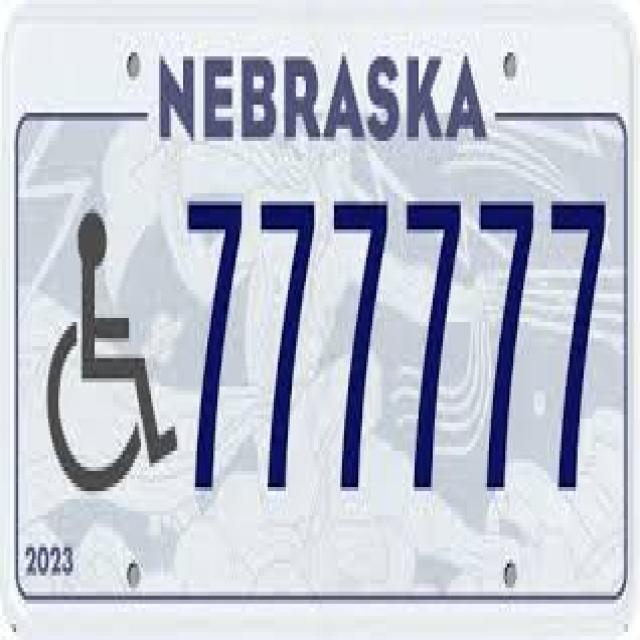symbol_of_access: (47, 212, 176, 493)
